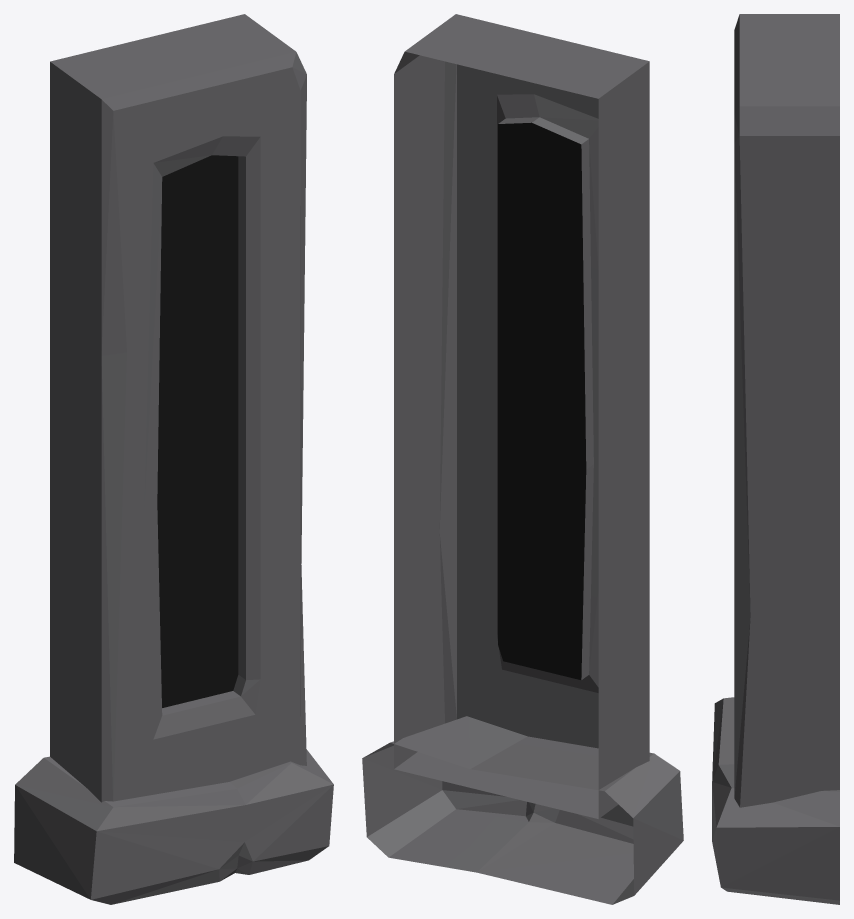
The model's file is SM_Bld_Castle_Arrow_Slit_01.gltf.
The picture shows the model from 3 angles, left to right: view 1: azimuth 30°, elevation 25°; view 2: azimuth 150°, elevation 25°; view 3: azimuth 270°, elevation 25°; orthographic projection. The views are drawn at different scales.
Parts seen in each view (by area): view 1: SM_Bld_Castle_Arrow_Slit_01; view 2: SM_Bld_Castle_Arrow_Slit_01; view 3: SM_Bld_Castle_Arrow_Slit_01.
Part boxes in pixels (x1,y1,x2,y2): SM_Bld_Castle_Arrow_Slit_01: (14,14,333,904); SM_Bld_Castle_Arrow_Slit_01: (362,14,683,904); SM_Bld_Castle_Arrow_Slit_01: (712,14,839,904).
Size of the model in its own units: 0.3998 by 1.14 by 0.1664.
Materials: 1 (1 with a texture image).
